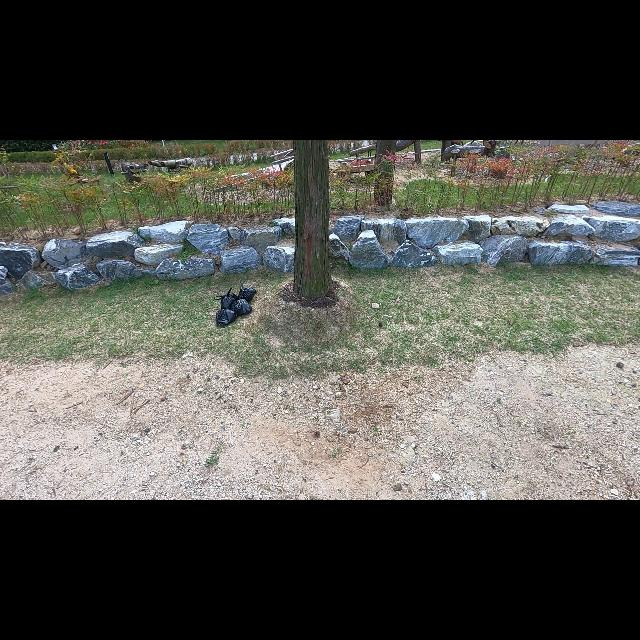trash: (228, 295, 254, 319), (214, 304, 238, 328), (216, 288, 238, 314), (236, 282, 258, 304)
